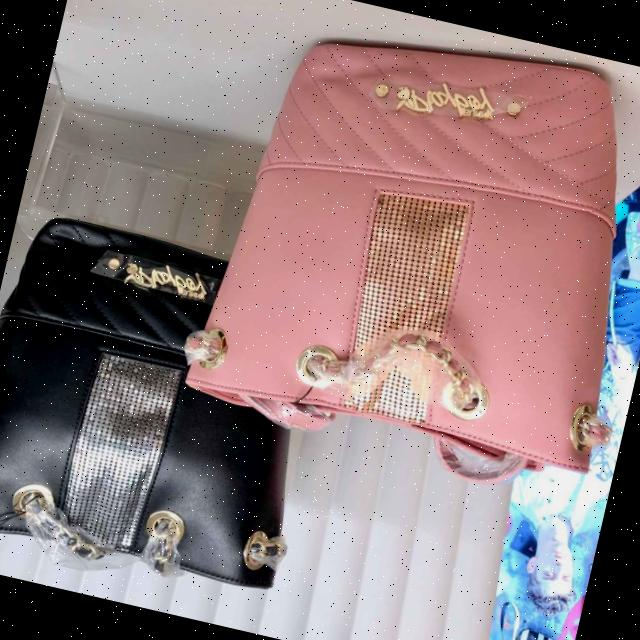handbag: (153, 0, 640, 521)
